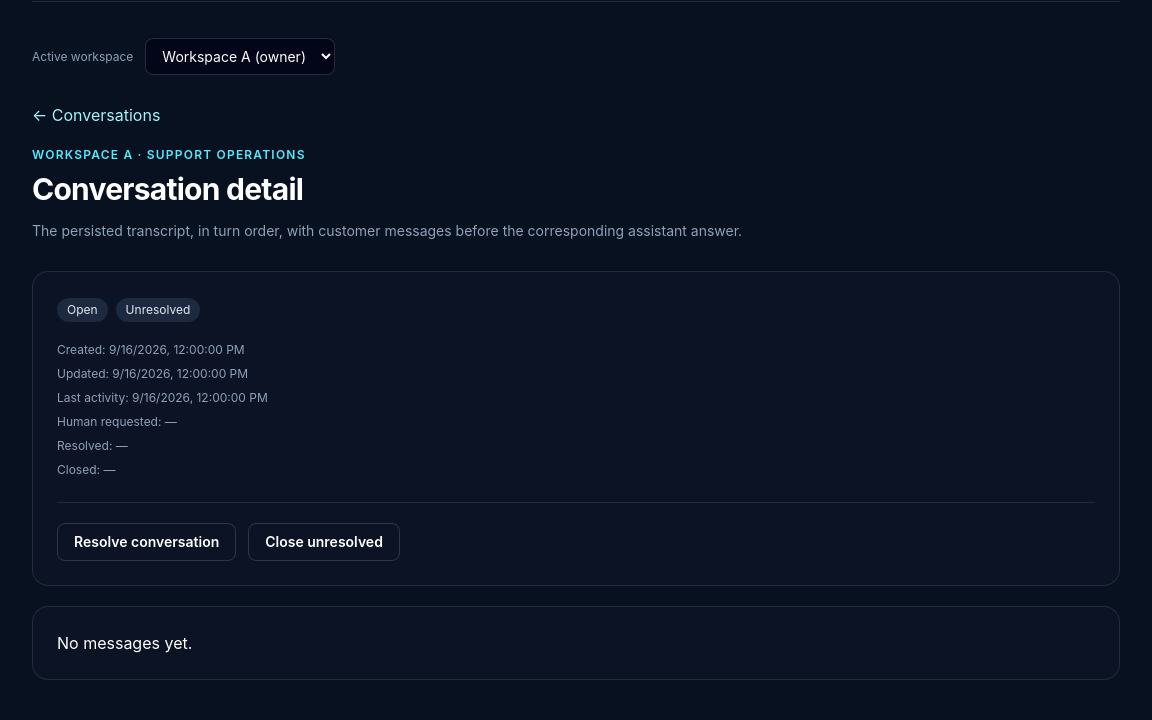
Test case: explicit conversation lifecycle › updates only from successful server Close unresolved state
(page scrolled)
Click the button "Close unresolved": (324, 542) top-left (248, 523), bottom-right (400, 561)
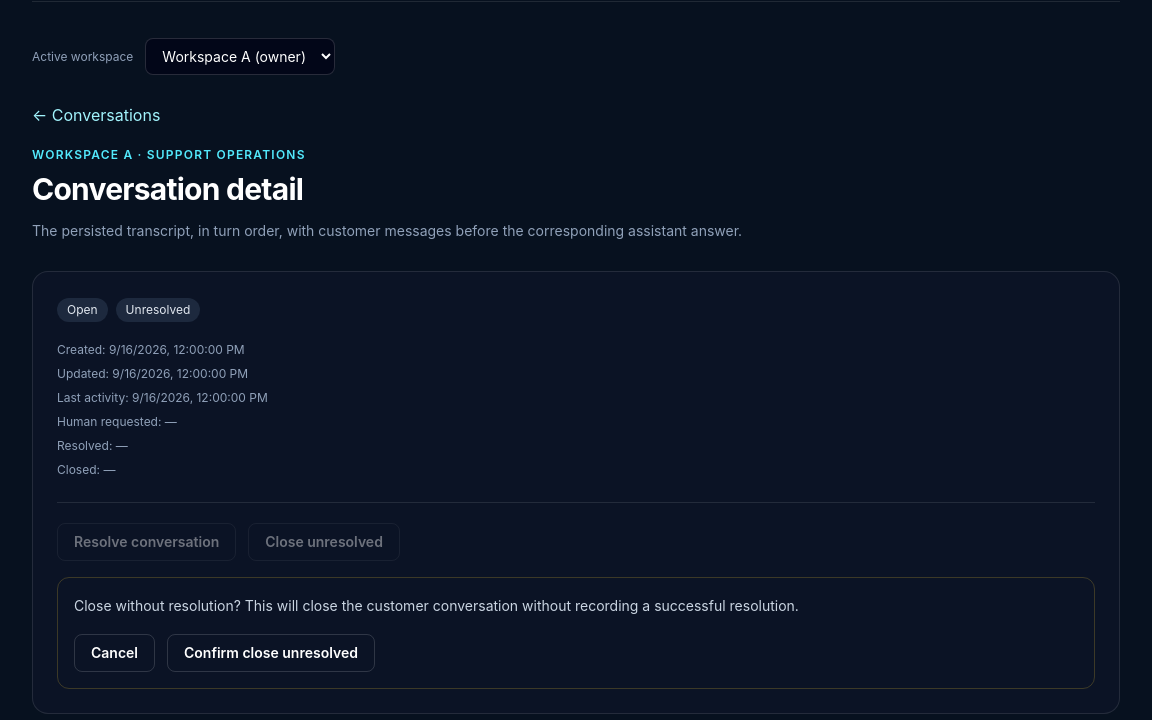
Click the button "Confirm close unresolved": (271, 653) top-left (167, 634), bottom-right (375, 672)
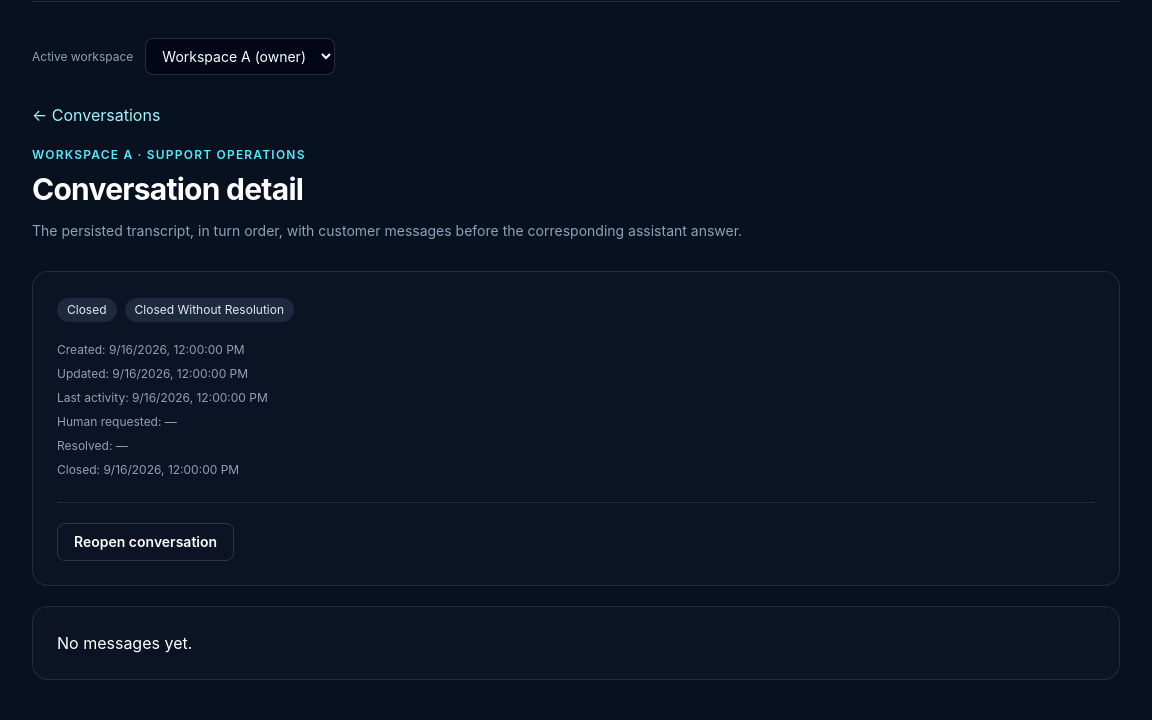
Now the button "Reopen conversation" is shown, box top-left (57, 523), bottom-right (234, 561)
Now the text "Closed without resolution" is shown, box top-left (124, 298), bottom-right (294, 322)
